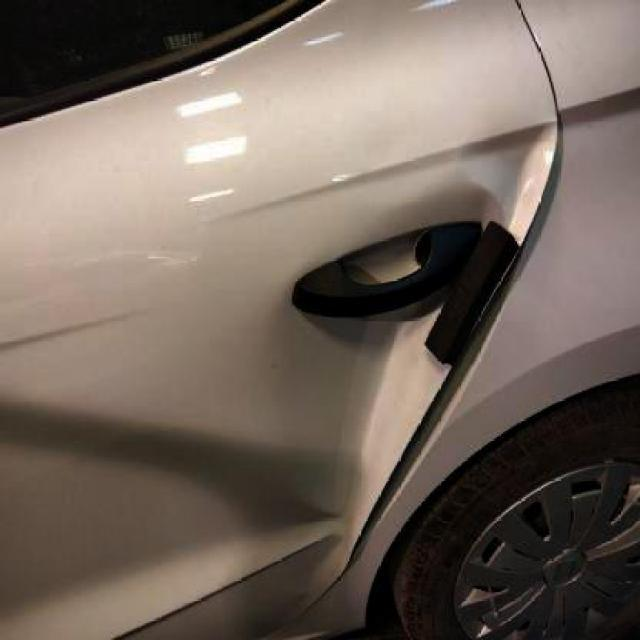car damage: (205, 431, 374, 639), (452, 114, 567, 244)
